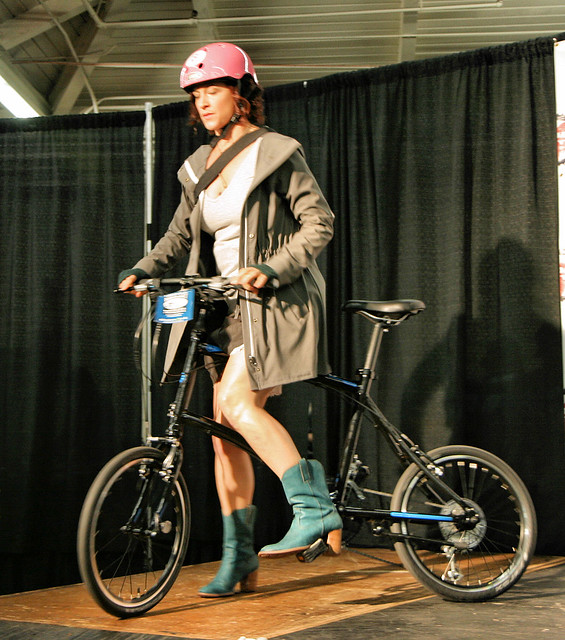helmet: (178, 38, 265, 89)
